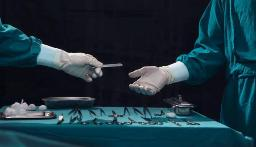scalpel: (86, 64, 124, 70)
